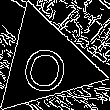O_N: (18, 33, 74, 93)
